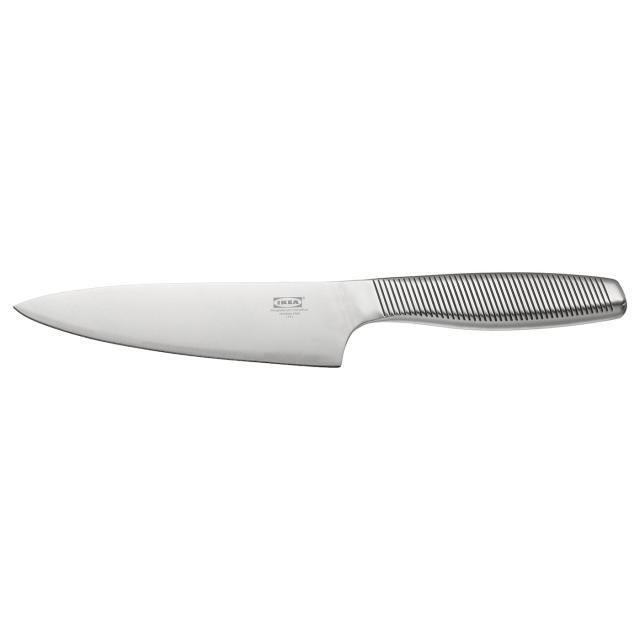Weapon: (13, 266, 638, 370)
